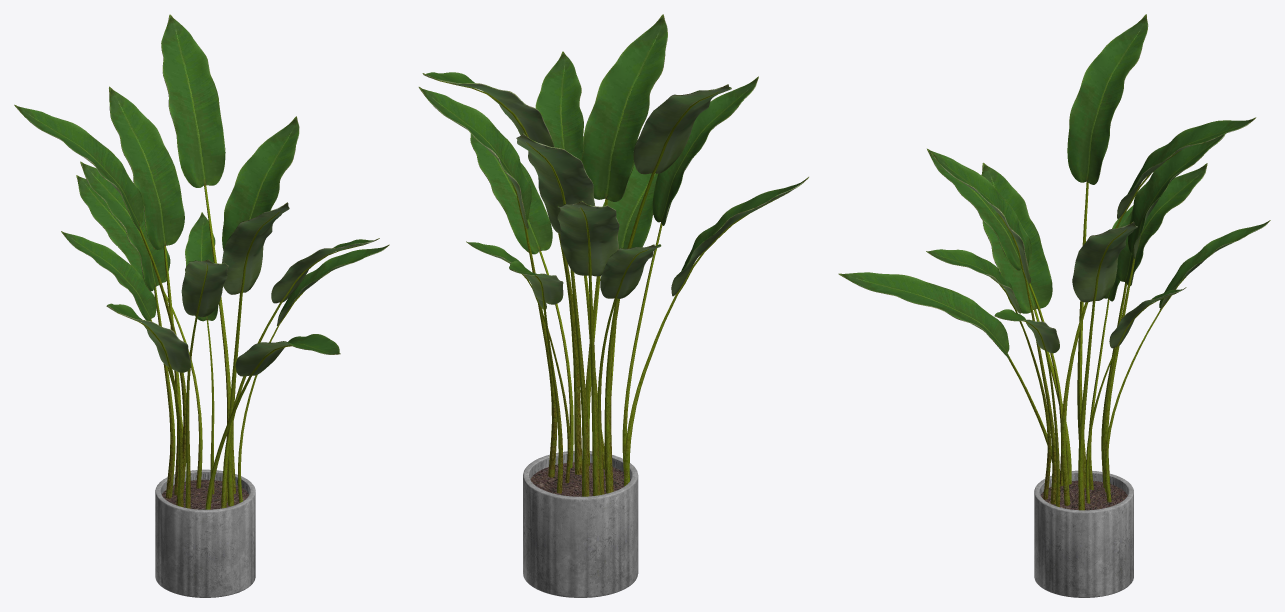
Rendered from plant_13.glb.
The picture shows the model from 3 angles, left to right: view 1: azimuth 30°, elevation 25°; view 2: azimuth 150°, elevation 25°; view 3: azimuth 270°, elevation 25°; orthographic projection. The views are drawn at different scales.
Parts seen in each view (by area): view 1: Plants_VOL01_13; view 2: Plants_VOL01_13; view 3: Plants_VOL01_13.
Boxes of the visible parts, x1,y1,x2,y2 form: Plants_VOL01_13: (14,14,389,597); Plants_VOL01_13: (418,14,808,597); Plants_VOL01_13: (838,14,1270,597).
Bounding box in the file's own units: 0.8727 × 1.36 × 1.1.
Materials: 5 (5 with a texture image).
